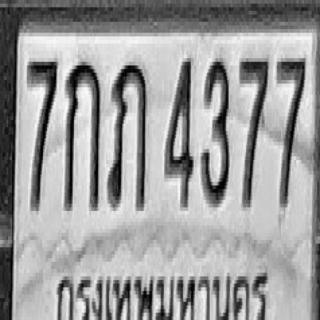A01: (64, 56, 100, 209)
A32: (108, 60, 148, 209)
N03: (201, 54, 229, 204)
N04: (164, 53, 194, 205)
N07: (27, 56, 57, 209), (240, 53, 268, 205), (277, 53, 305, 205)
P04: (52, 259, 272, 320)
